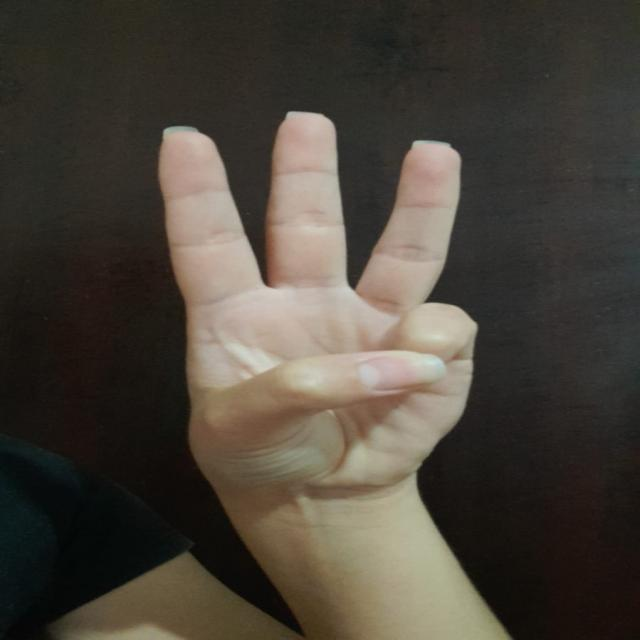W: (124, 96, 502, 504)
